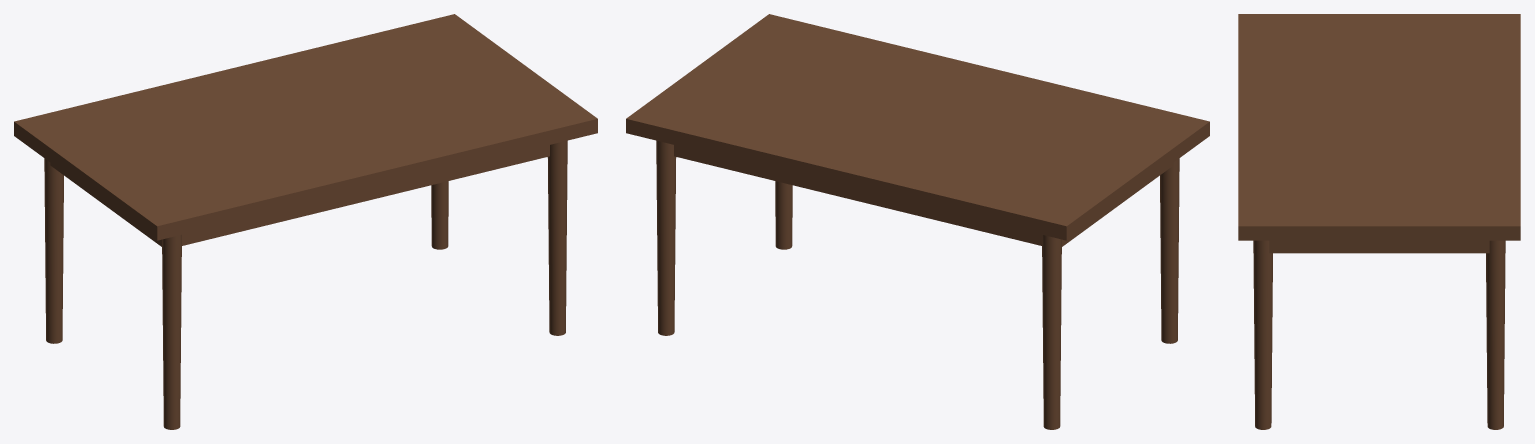
File: dining-table-lod0.glb
3 renders of one model, left to right at view 1: azimuth 30°, elevation 25°; view 2: azimuth 150°, elevation 25°; view 3: azimuth 270°, elevation 25°, orthographic.
Visible parts, largest first — view 1: top, leg (×4), apron; view 2: top, leg (×4), apron; view 3: top, leg (×2), apron.
Part boxes in pixels (<box>): top: <box>14,14,597,240</box>; leg (×4): <box>44,140,567,429</box>; apron: <box>50,145,549,246</box>; top: <box>626,14,1209,240</box>; leg (×4): <box>656,140,1179,429</box>; apron: <box>674,145,1173,246</box>; top: <box>1238,14,1520,240</box>; leg (×2): <box>1253,240,1505,429</box>; apron: <box>1269,240,1489,253</box>.
Bounding box in the file's own units: 1.6 × 0.75 × 0.9.
